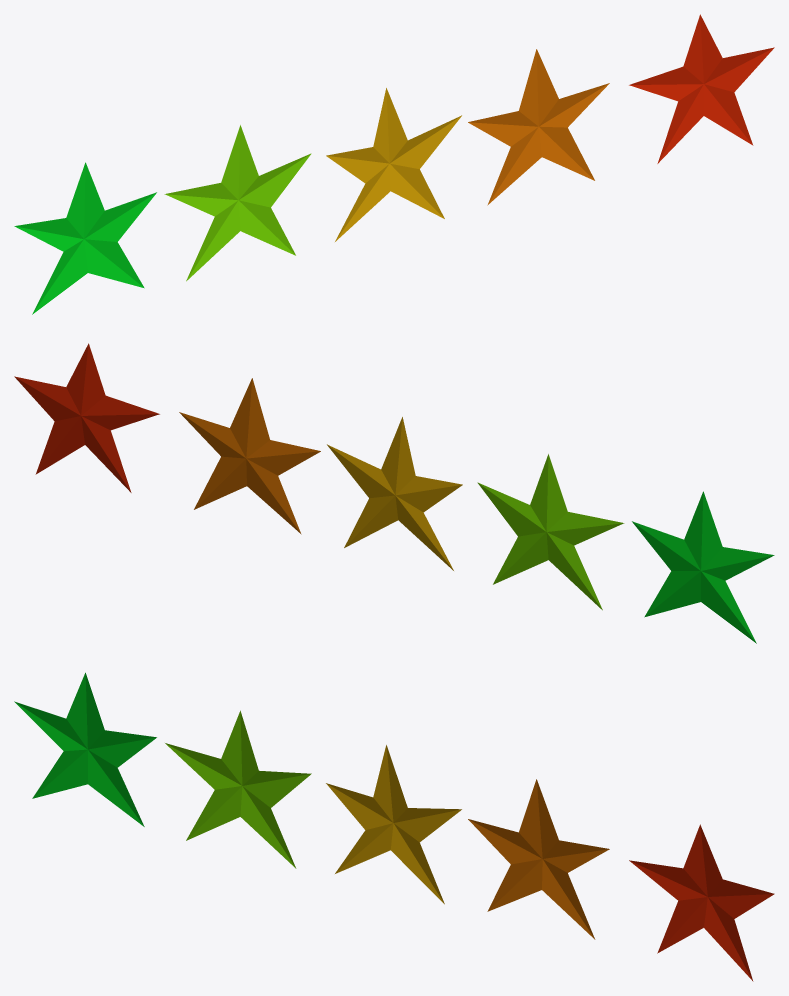
Rendered from icon_fiveStars.glb.
3 views of the same model, one above another, from view 1: azimuth 30°, elevation 25°; view 2: azimuth 150°, elevation 25°; view 3: azimuth 330°, elevation 25° (orthographic).
Parts seen in each view (by area): view 1: Cube; view 2: Cube; view 3: Cube.
Boxes of the visible parts, box(x1,y1,x2,y2) form: Cube: box(14, 14, 774, 314); Cube: box(14, 343, 774, 643); Cube: box(14, 672, 774, 981).
Size of the model in its own units: 1.95 by 0.3678 by 0.00863.
